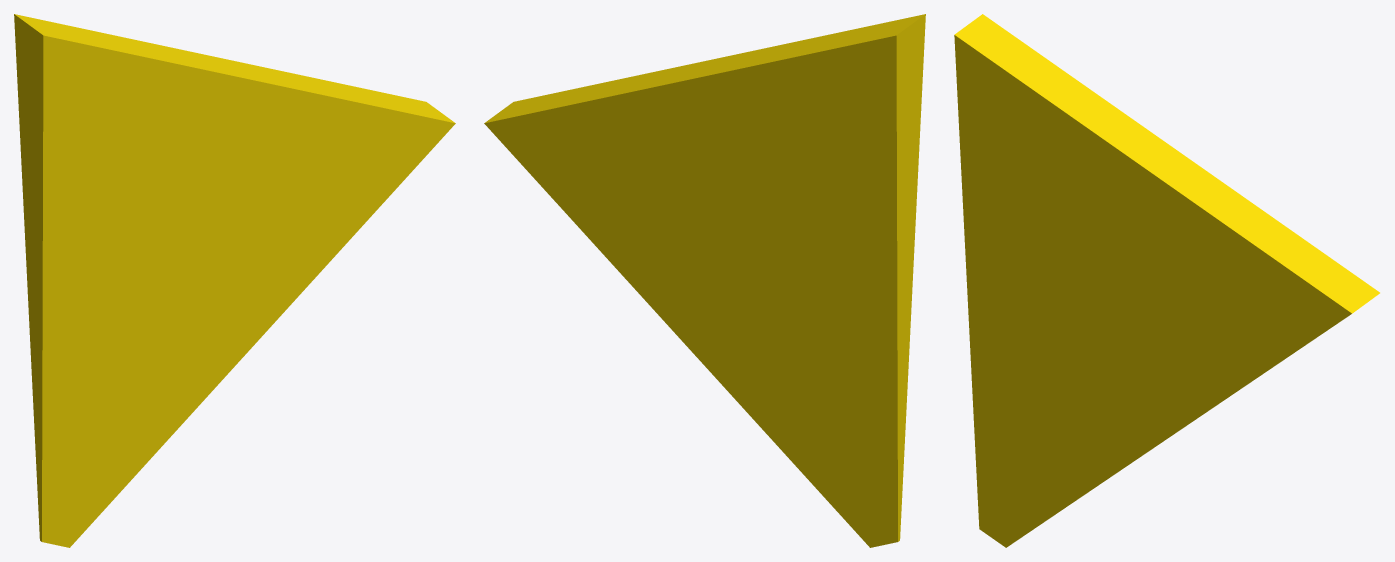
The model's file is ICBeach_Flag.fbx.
3 renders of one model, left to right at view 1: azimuth 30°, elevation 25°; view 2: azimuth 150°, elevation 25°; view 3: azimuth 330°, elevation 25°, orthographic. The views are drawn at different scales.
Parts seen in each view (by area): view 1: Cube.001; view 2: Cube.001; view 3: Cube.001.
Part boxes in pixels (x1=…): Cube.001: x1=14, y1=14, x2=455, y2=547; Cube.001: x1=484, y1=14, x2=925, y2=547; Cube.001: x1=954, y1=14, x2=1379, y2=547.
Size of the model in its own units: 183 by 226 by 22.61.
